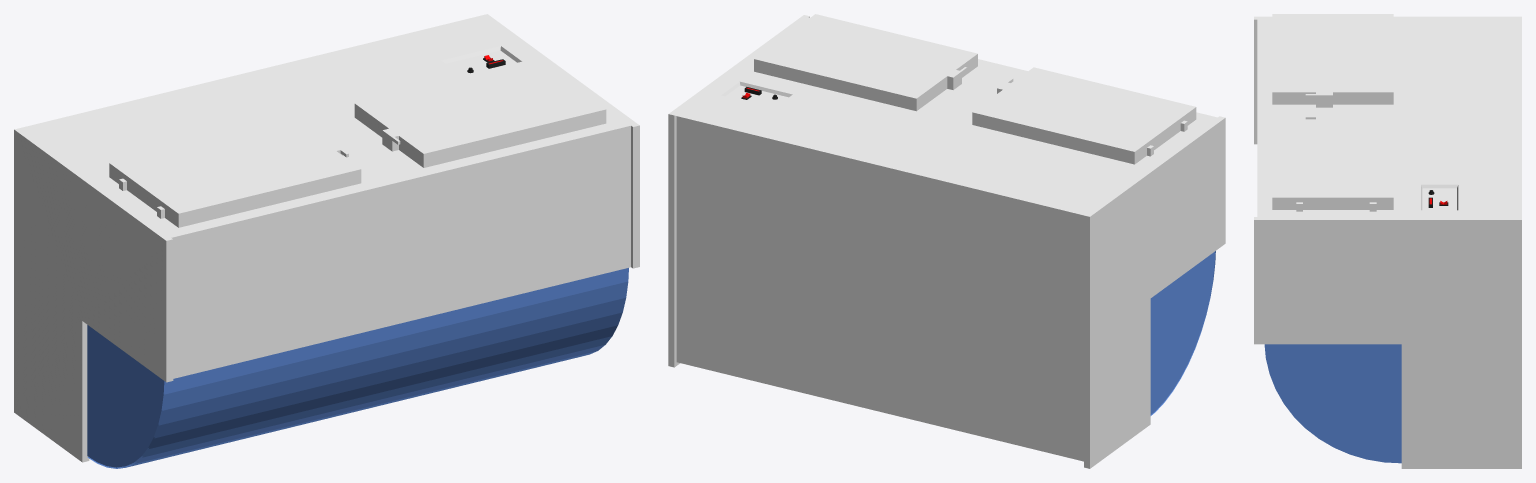
3 renders of one model, left to right at view 1: azimuth 30°, elevation 25°; view 2: azimuth 150°, elevation 25°; view 3: azimuth 270°, elevation 25°, orthographic. The views are drawn at different scales.
Visible parts, largest first — view 1: refrigerator buzdolab vitrin tip; view 2: refrigerator buzdolab vitrin tip; view 3: refrigerator buzdolab vitrin tip.
Part boxes in pixels (x1,y1,x2,y2): refrigerator buzdolab vitrin tip: (14,14,639,468); refrigerator buzdolab vitrin tip: (668,14,1225,468); refrigerator buzdolab vitrin tip: (1254,14,1521,468).
Bounding box in the file's own units: 55.12 × 33.07 × 30.71.
